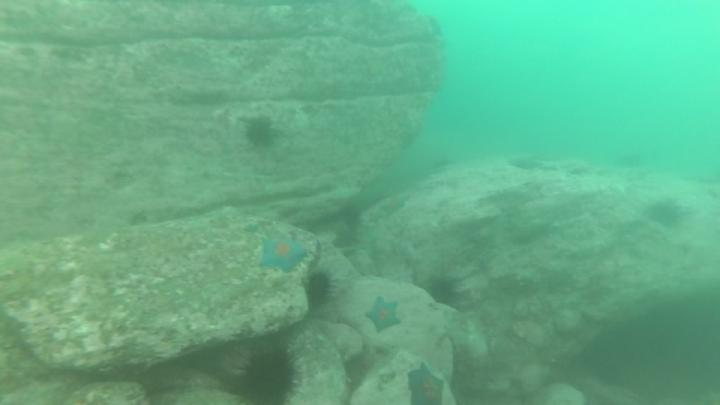echinus: (235, 347, 304, 405), (243, 115, 278, 154), (308, 269, 338, 313), (647, 199, 685, 232), (425, 277, 462, 309), (615, 151, 646, 172)
starfish: (256, 234, 312, 278), (406, 363, 448, 405), (365, 296, 405, 334), (378, 193, 414, 221)
